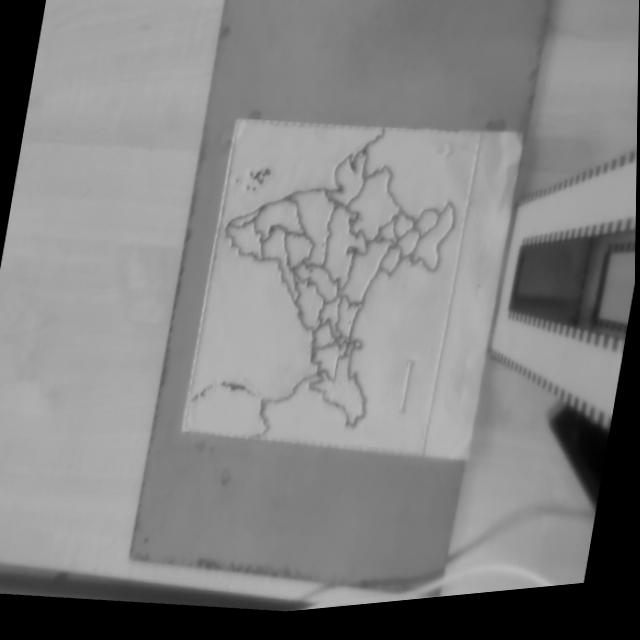map: (182, 89, 481, 473)
